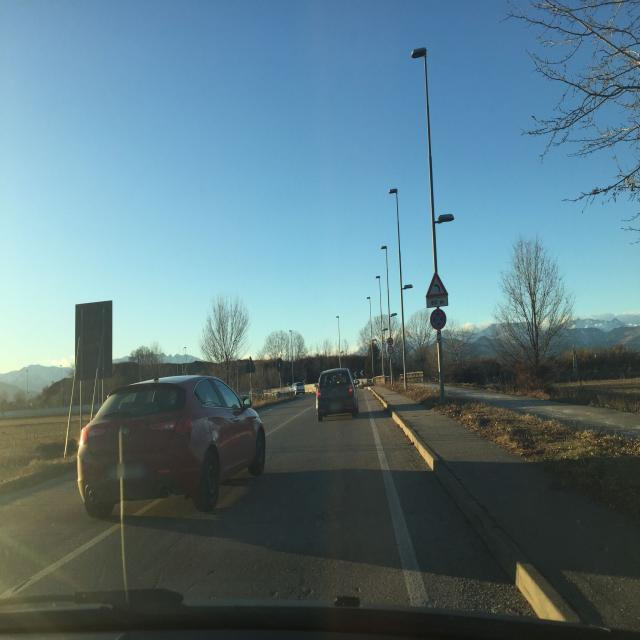car: (76, 374, 266, 518), (316, 368, 358, 420), (295, 384, 305, 395)
